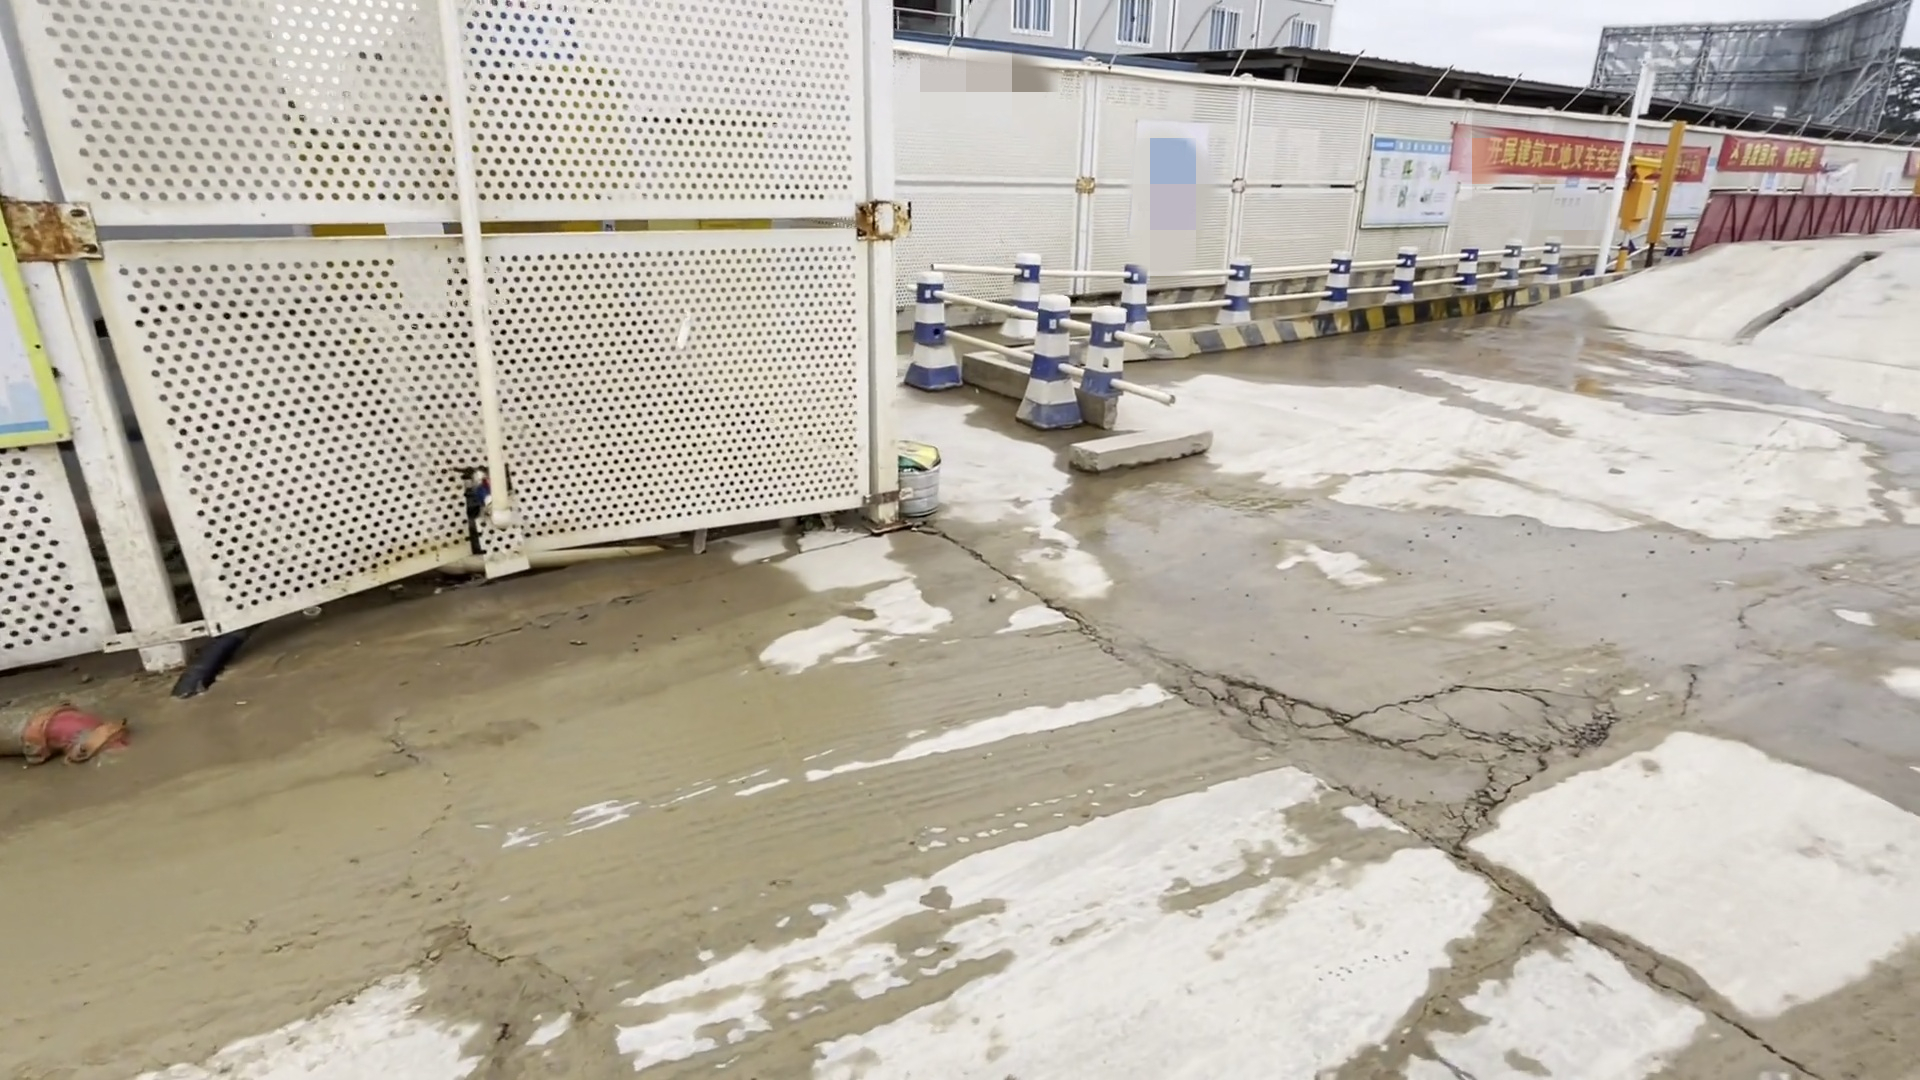slogan: (1375, 109, 1830, 196)
